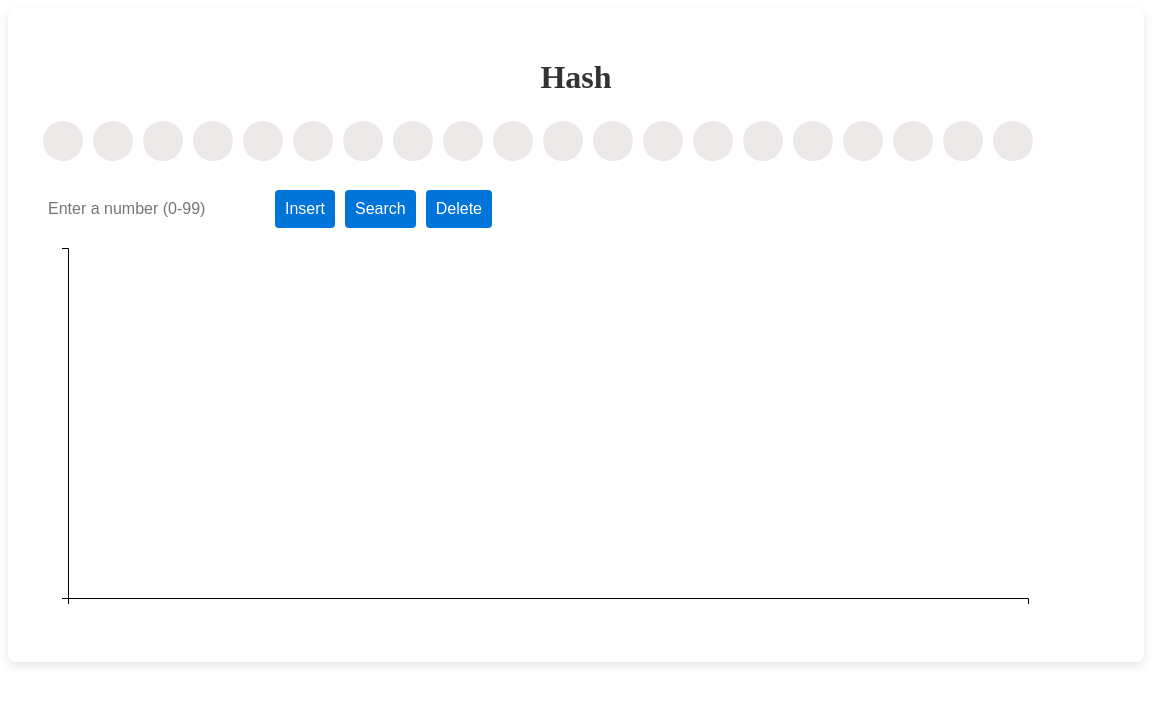
Test: Hash Component Test › Insert testing
Step 1. Type "23" into the number field with placeholder "Enter a number (0-99)" → (152, 209), box [38,190,265,228]
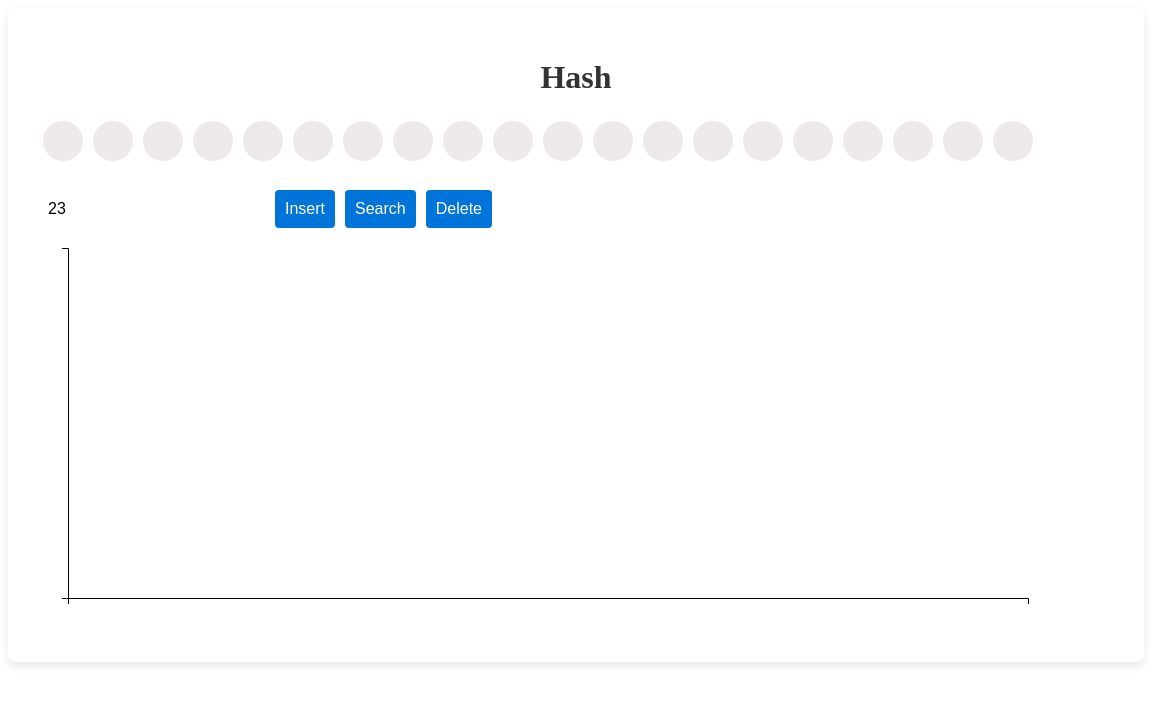
Step 2. Click the button "Insert" → (305, 209), box [275,190,335,228]
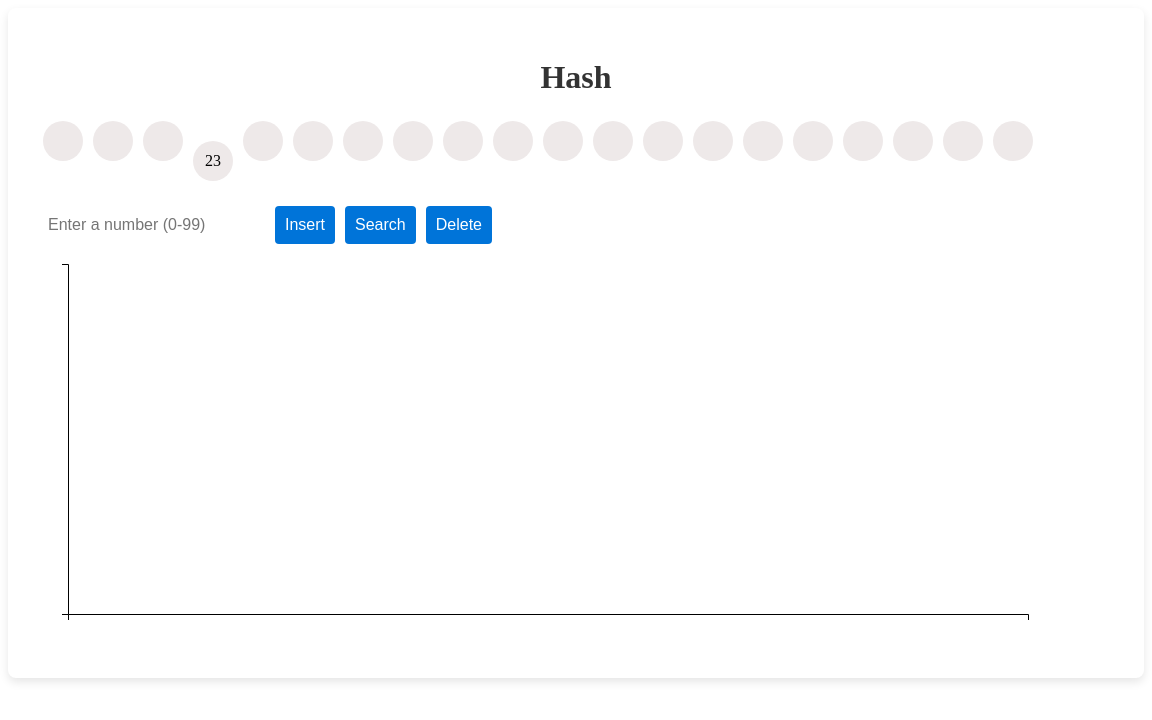
Expected: the text "23" is shown, [193,141,233,181]
